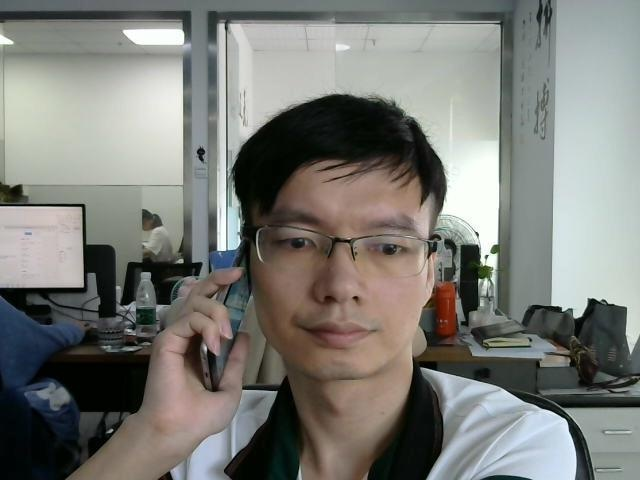hand: (155, 268, 253, 423)
